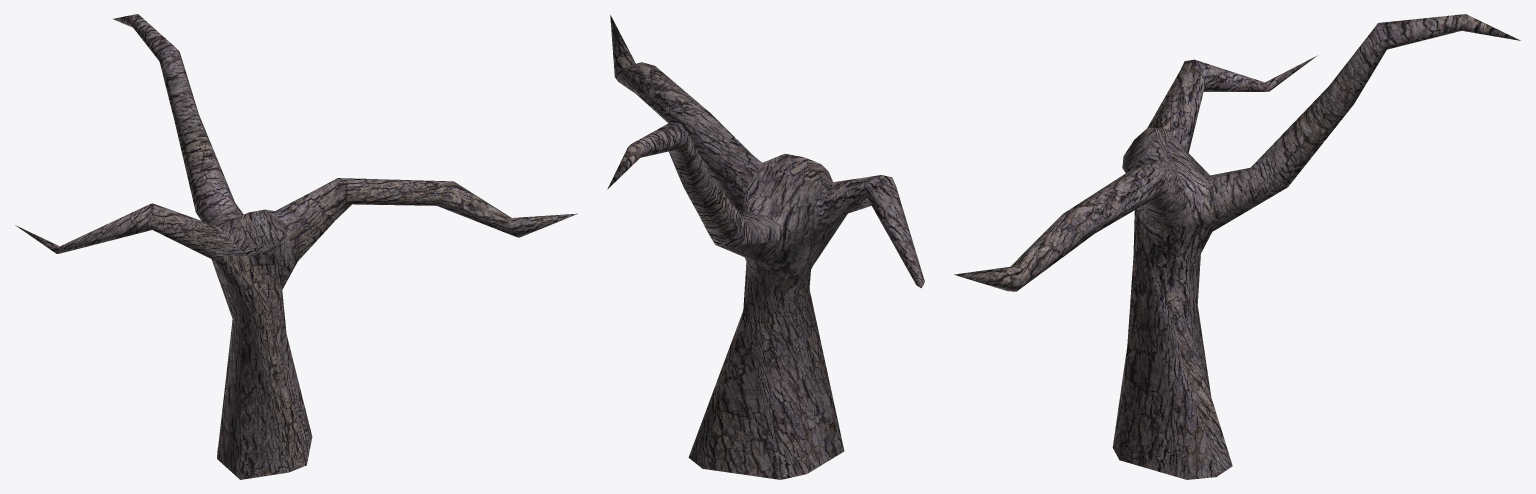
Rendered from crooked_tree_1.fbx.
The picture shows the model from 3 angles, left to right: view 1: azimuth 30°, elevation 25°; view 2: azimuth 150°, elevation 25°; view 3: azimuth 270°, elevation 25°; orthographic projection. The views are drawn at different scales.
Parts seen in each view (by area): view 1: crooked_tree_1; view 2: crooked_tree_1; view 3: crooked_tree_1.
Part boxes in pixels (bbox=[...]): crooked_tree_1: bbox=[15, 14, 577, 479]; crooked_tree_1: bbox=[607, 15, 924, 479]; crooked_tree_1: bbox=[954, 14, 1520, 479].
Bounding box in the file's own units: 11.52 × 9.41 × 11.31.
